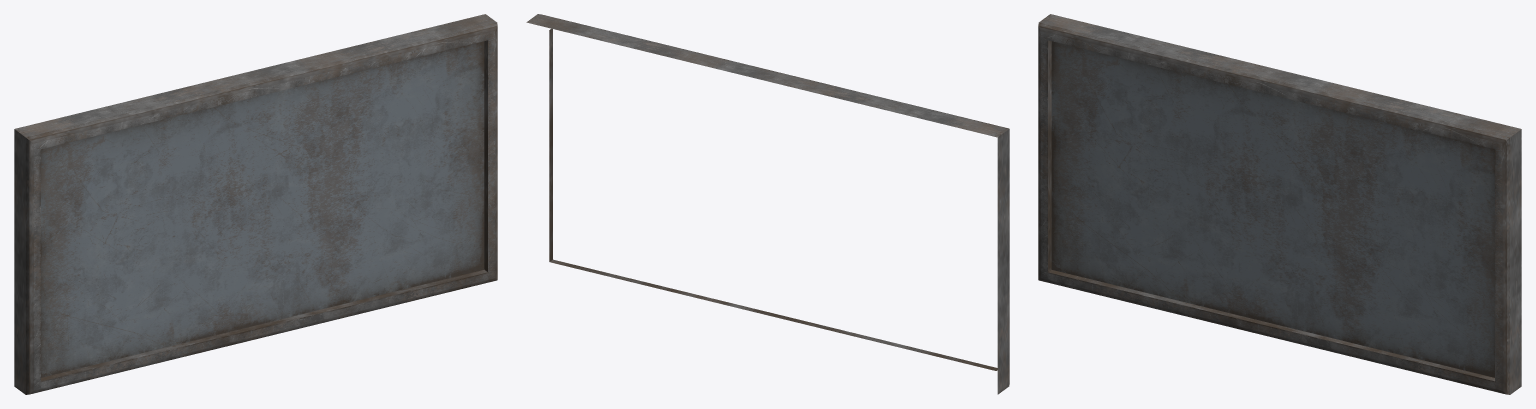
File: Window.gltf
3 renders of one model, left to right at view 1: azimuth 30°, elevation 25°; view 2: azimuth 150°, elevation 25°; view 3: azimuth 330°, elevation 25°, orthographic.
Visible parts, largest first — view 1: SM_Window; view 2: SM_Window; view 3: SM_Window.
Boxes of the visible parts, left/top/right/bottom form: SM_Window: left=14, top=14, right=497, bottom=394; SM_Window: left=526, top=14, right=1009, bottom=394; SM_Window: left=1038, top=14, right=1521, bottom=394.
Bounding box in the file's own units: 1.93 × 1.01 × 0.1032.
Materials: 1 (1 with a texture image).
